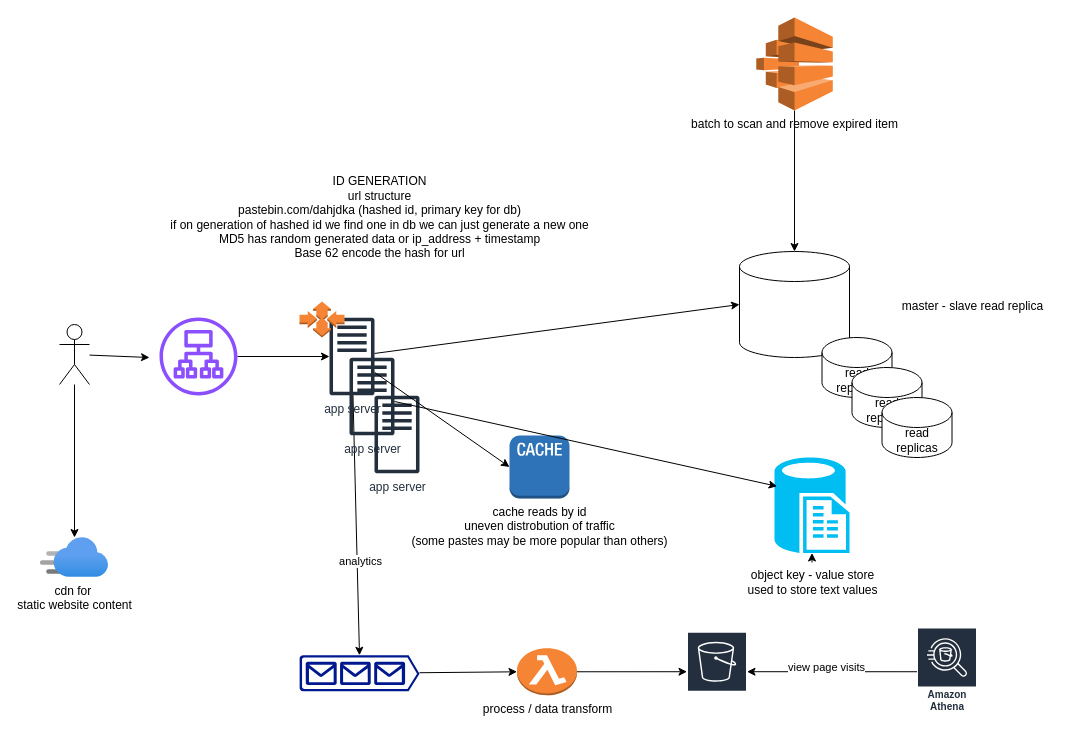
Some shapes in this 1069 by 734 pixel diagram are drawn without their labels. Each missing label, with the centre of its shape:
"Actor" belongs at point 74,354.
"Amazon S3" belongs at point 716,671.
"data store - id (hashed value for url) - create_at - expiration_date - shortLink" belongs at point 794,304.
"laod balancer" belongs at point 198,356.
"message queue" belongs at point 359,673.
